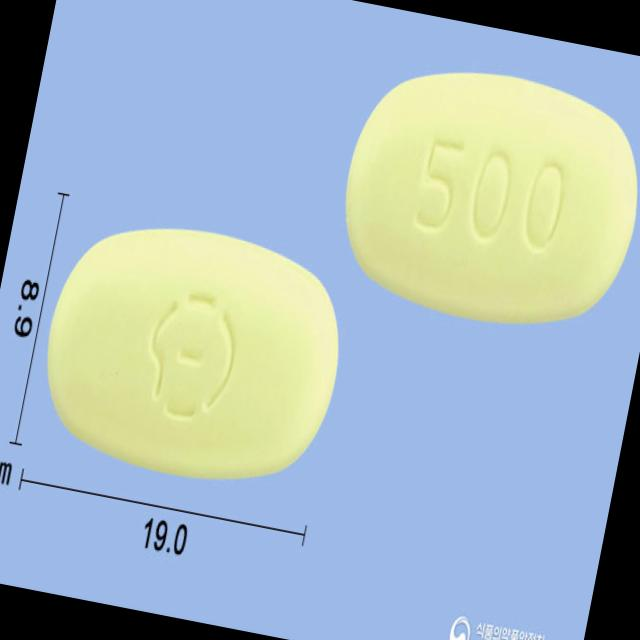Clarione: (22, 195, 364, 510), (319, 40, 640, 359)
